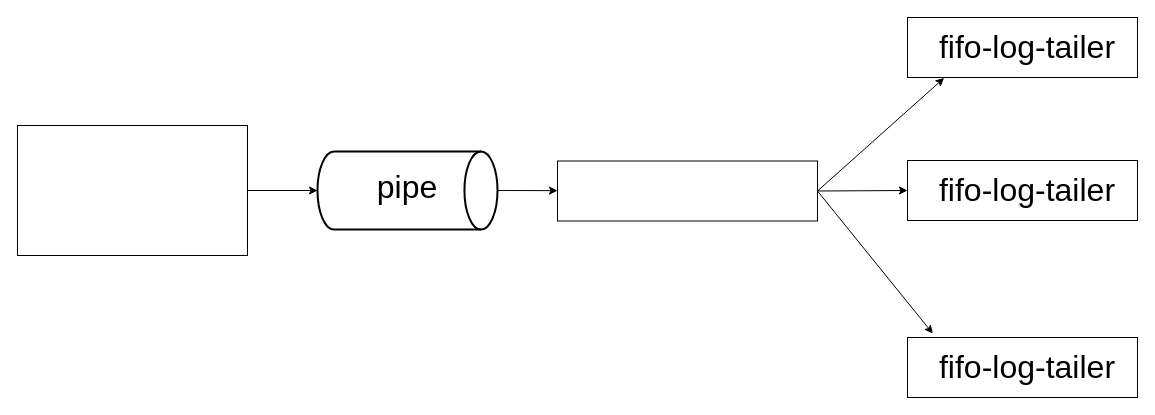
This 1155x415 diagram has some shape labels left out. The box of each missing label's shape, as (x1, y1, x2, y2) in pixels:
ATS: (16, 124, 248, 256)
fifo-log-demux: (556, 160, 818, 221)
